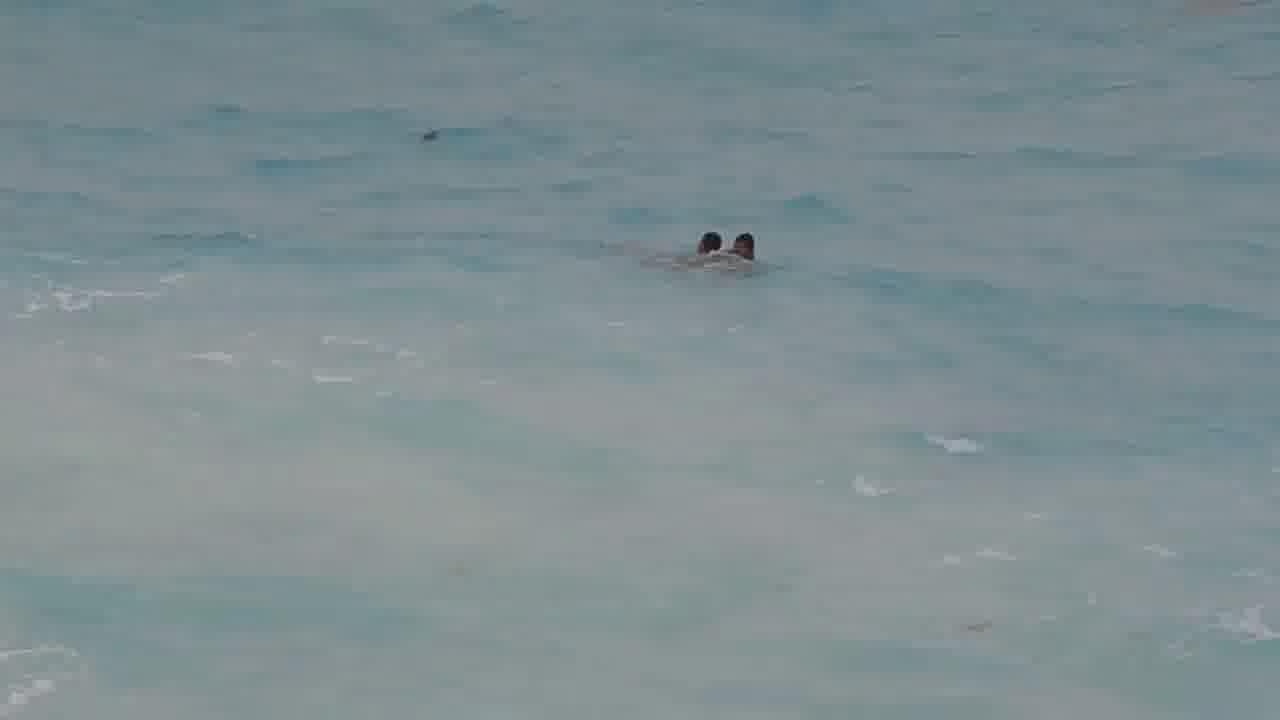swimmer: (728, 207, 766, 275), (685, 215, 724, 260)
